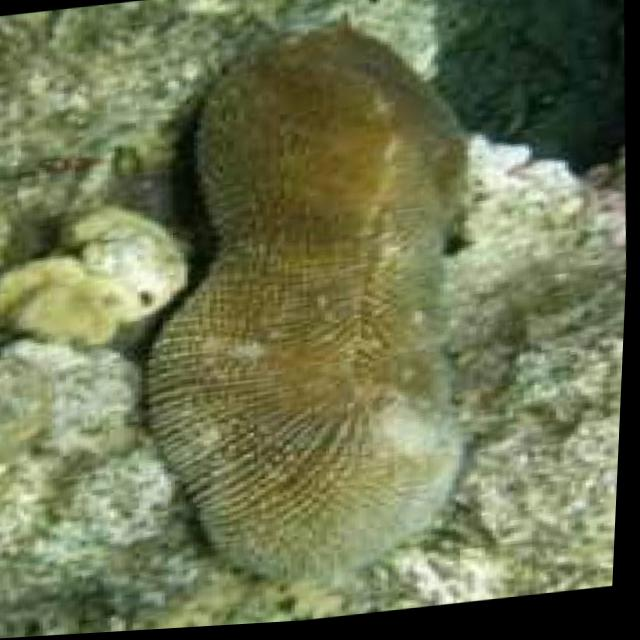Healthy Coral: (113, 16, 501, 614)
